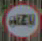Heavy Vehicles: (6, 2, 39, 40)
